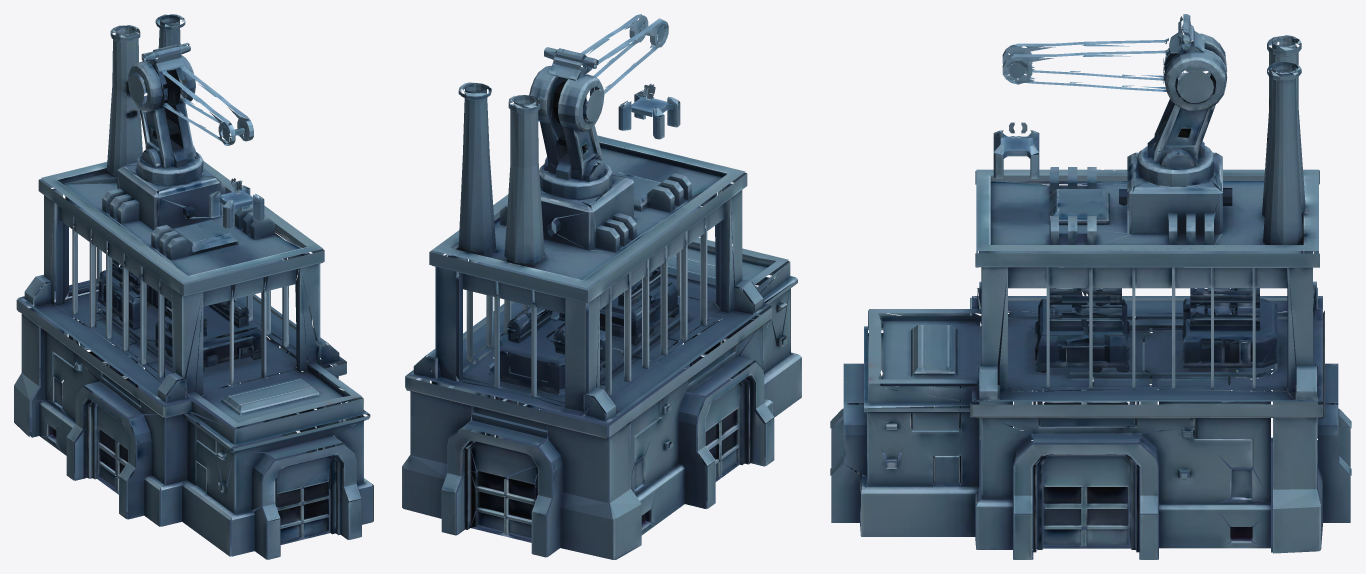
The model's file is forge_LOD1.glb.
3 views of the same model, side by side, from view 1: azimuth 30°, elevation 25°; view 2: azimuth 150°, elevation 25°; view 3: azimuth 270°, elevation 25° (orthographic). The views are drawn at different scales.
Parts seen in each view (by area): view 1: forge_LOD1; view 2: forge_LOD1; view 3: forge_LOD1.
Part boxes in pixels (x1,y1,x2,y2): forge_LOD1: [14, 14, 373, 559]; forge_LOD1: [402, 14, 801, 559]; forge_LOD1: [830, 14, 1351, 559].
Bounding box in the file's own units: 0.5846 × 0.9867 × 0.9925.
Materials: 1 (1 with a texture image).
